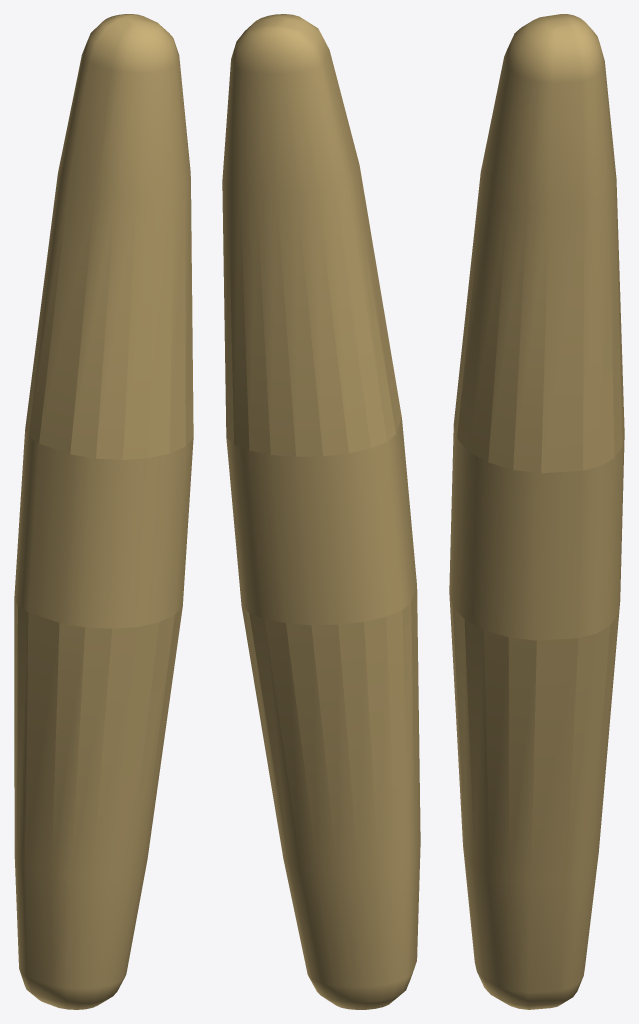
File: Bagette.fbx
3 renders of one model, left to right at view 1: azimuth 30°, elevation 25°; view 2: azimuth 150°, elevation 25°; view 3: azimuth 270°, elevation 25°, orthographic. The views are drawn at different scales.
Visible parts, largest first — view 1: Bagette1; view 2: Bagette1; view 3: Bagette1.
Part boxes in pixels (box(x1,y1,x2,y2)): Bagette1: box(14, 14, 193, 1009); Bagette1: box(222, 14, 420, 1009); Bagette1: box(449, 14, 624, 1009).
Bounding box in the file's own units: 0.6165 × 3.33 × 0.5224.
